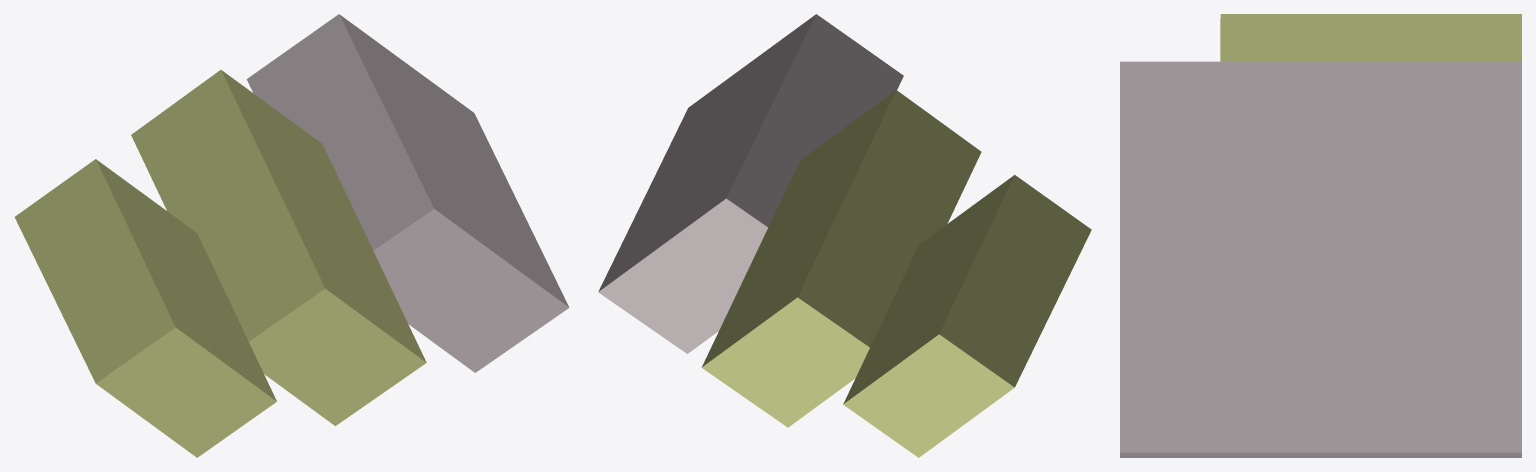
The picture shows the model from 3 angles, left to right: view 1: azimuth 30°, elevation 25°; view 2: azimuth 150°, elevation 25°; view 3: azimuth 270°, elevation 25°; orthographic projection. The views are drawn at different scales.
Parts seen in each view (by area): view 1: 0_2_2_0_0_0_0_2_2_3; view 2: 0_2_2_0_0_0_0_2_2_3; view 3: 0_2_2_0_0_0_0_2_2_3.
Boxes of the visible parts, left/top/right/bottom form: 0_2_2_0_0_0_0_2_2_3: left=14, top=14, right=569, bottom=457; 0_2_2_0_0_0_0_2_2_3: left=598, top=14, right=1091, bottom=457; 0_2_2_0_0_0_0_2_2_3: left=1120, top=14, right=1521, bottom=457.
Size of the model in its own units: 21.5 by 15.28 by 12.
